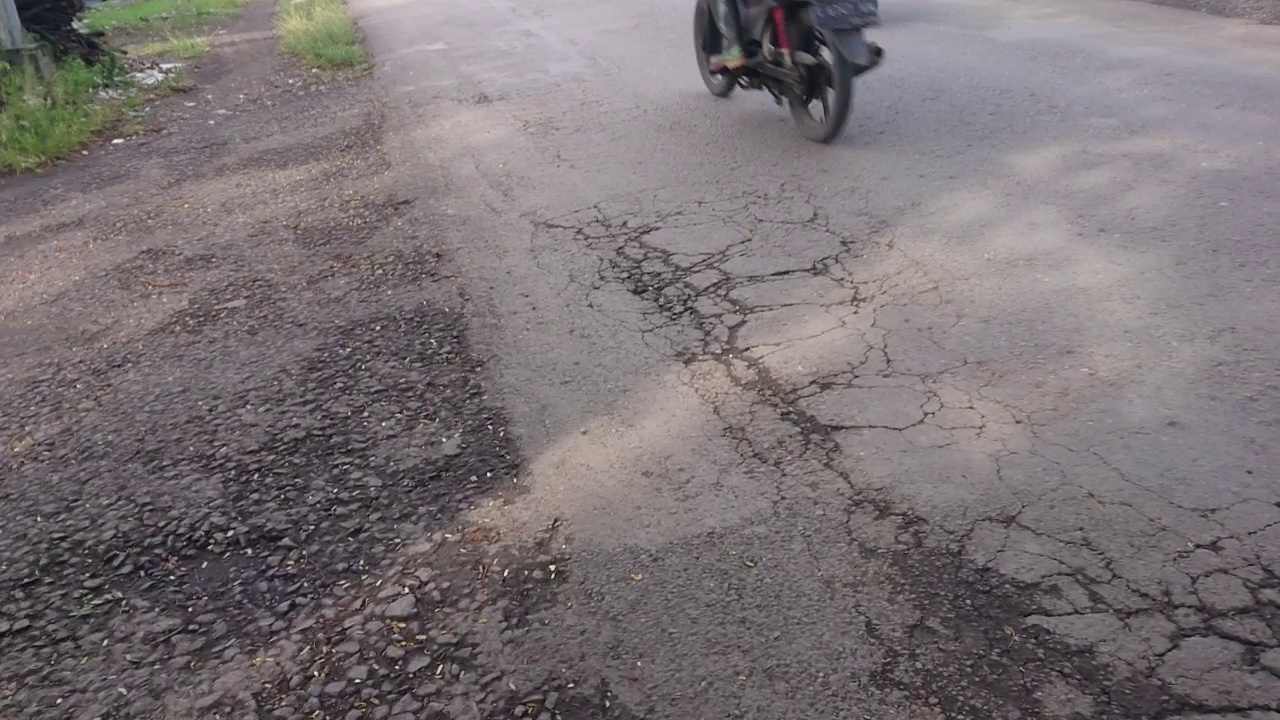Retak: (614, 224, 908, 513), (872, 517, 1280, 720)
